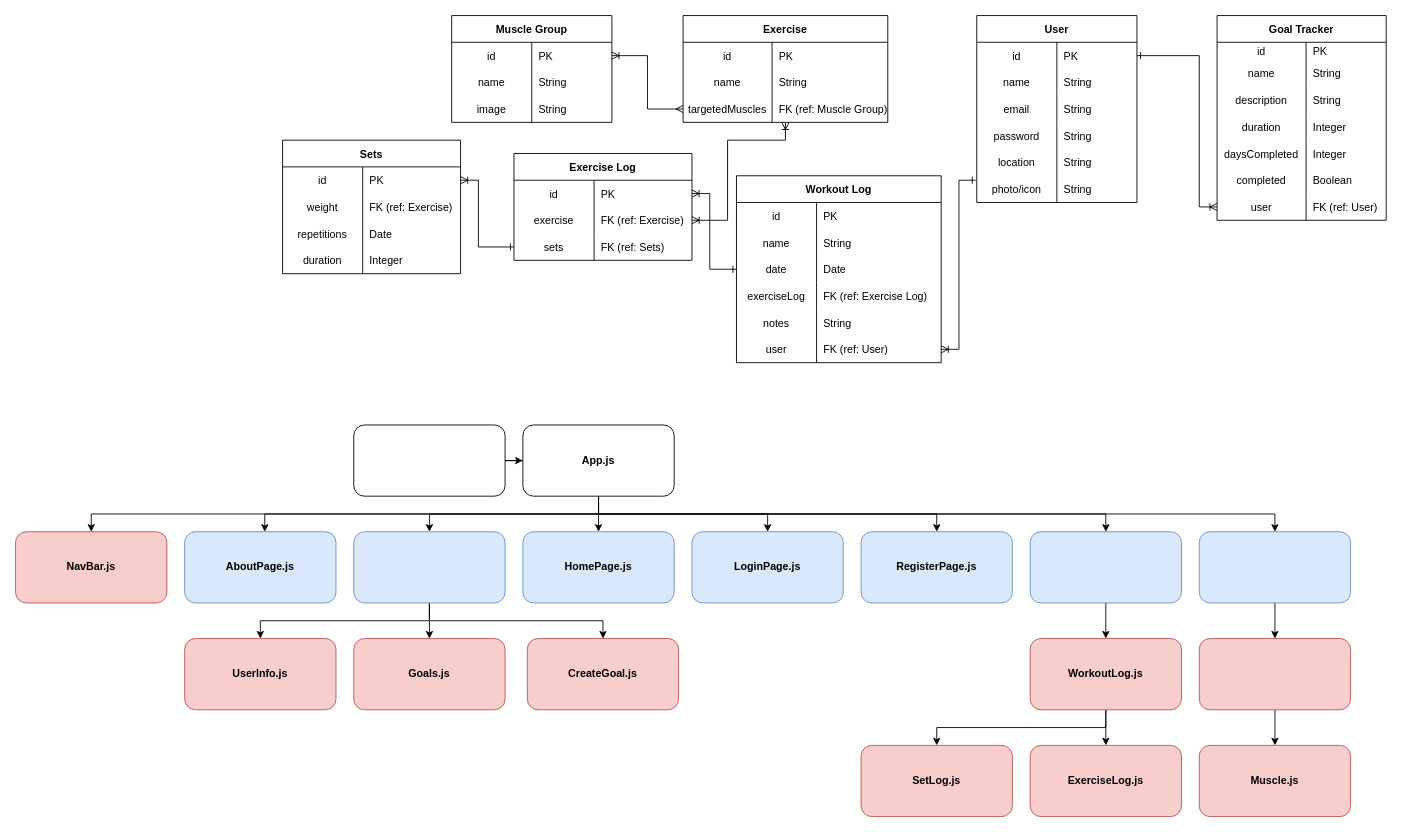
The diagram is 1402 pixels wide and 832 high, and some of its shapes have lost their labels. Here are the shapes that lost their labels. From the top down, the centre of each, then its label:
At point 429,460: "index.js".
At point 429,567: "ProfilePage.js".
At point 1105,567: "WorkoutDiary.js".
At point 1274,567: "AddWorkout.js".
At point 1274,674: "Exercise.js".
